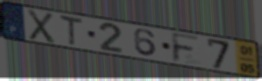2: (99, 22, 127, 55)
6: (133, 28, 159, 58)
7: (207, 37, 232, 71)
F: (170, 31, 202, 65)
T: (59, 13, 85, 48)
X: (26, 8, 56, 45)
